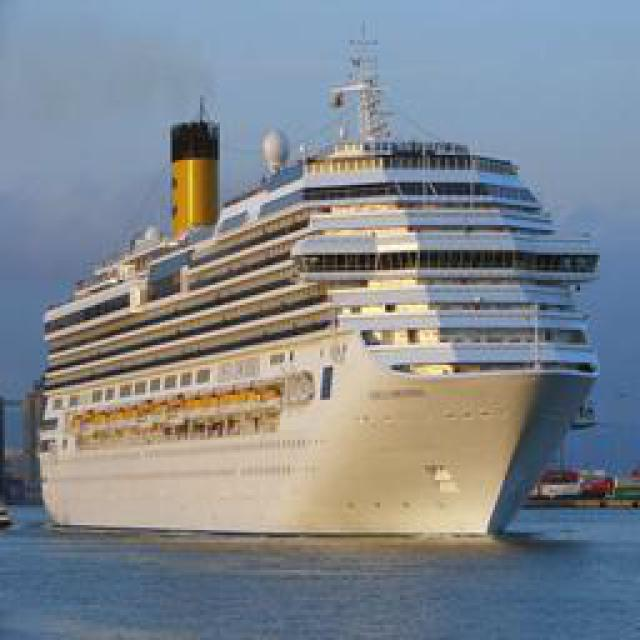Ship: (32, 111, 602, 536)
